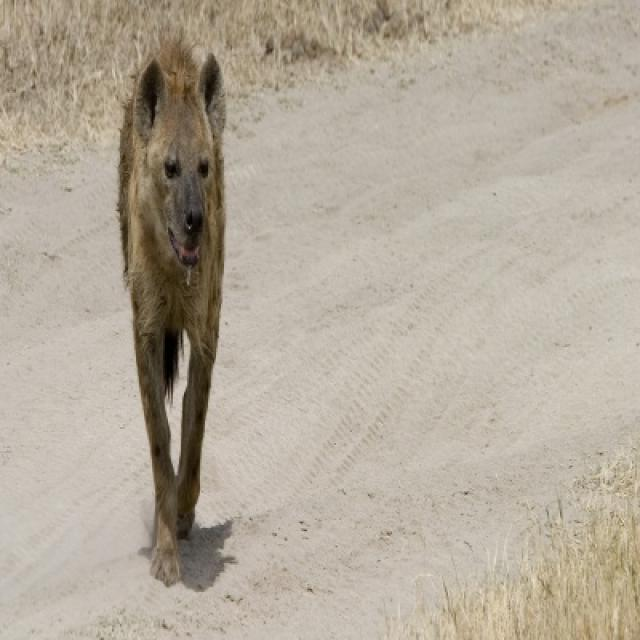hyena: (117, 43, 227, 589)
